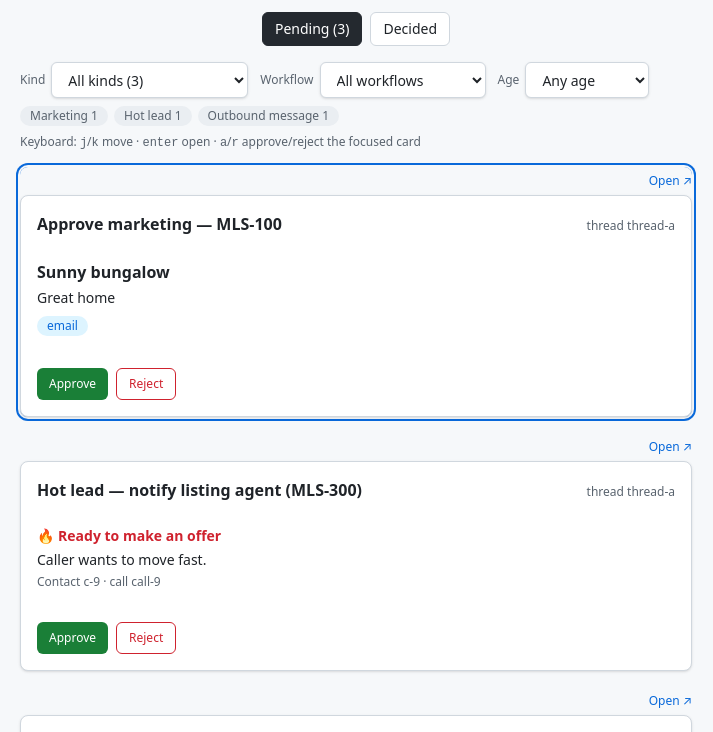
it: Triage filters (BOP-028) › filters the pending list by kind and shows per-kind count badges
Check: the text "Approve marketing — MLS-100" is shown, box [37,212,282,236]
Check: the element named "Pending counts by kind" shows "Marketing 1", box [20,106,339,126]
Select "Hot lead (1)" in the dropdown labelled "Kind": (150, 80) [51,62,248,98]
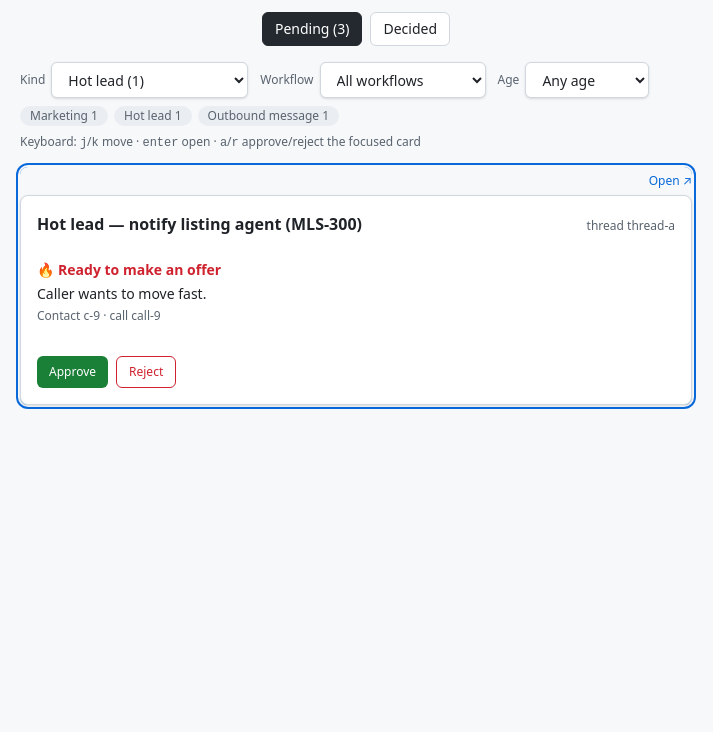
Check: the text "Hot lead — notify listing agent (MLS-300)" is shown, box [37,212,362,236]
Check: the text "Approve marketing" is gone
